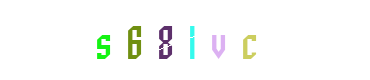1: (145, 0, 225, 80)
6: (94, 0, 174, 80)
8: (125, 0, 205, 80)
C: (173, 0, 253, 80)
S: (63, 0, 143, 80)
V: (152, 0, 232, 80)
